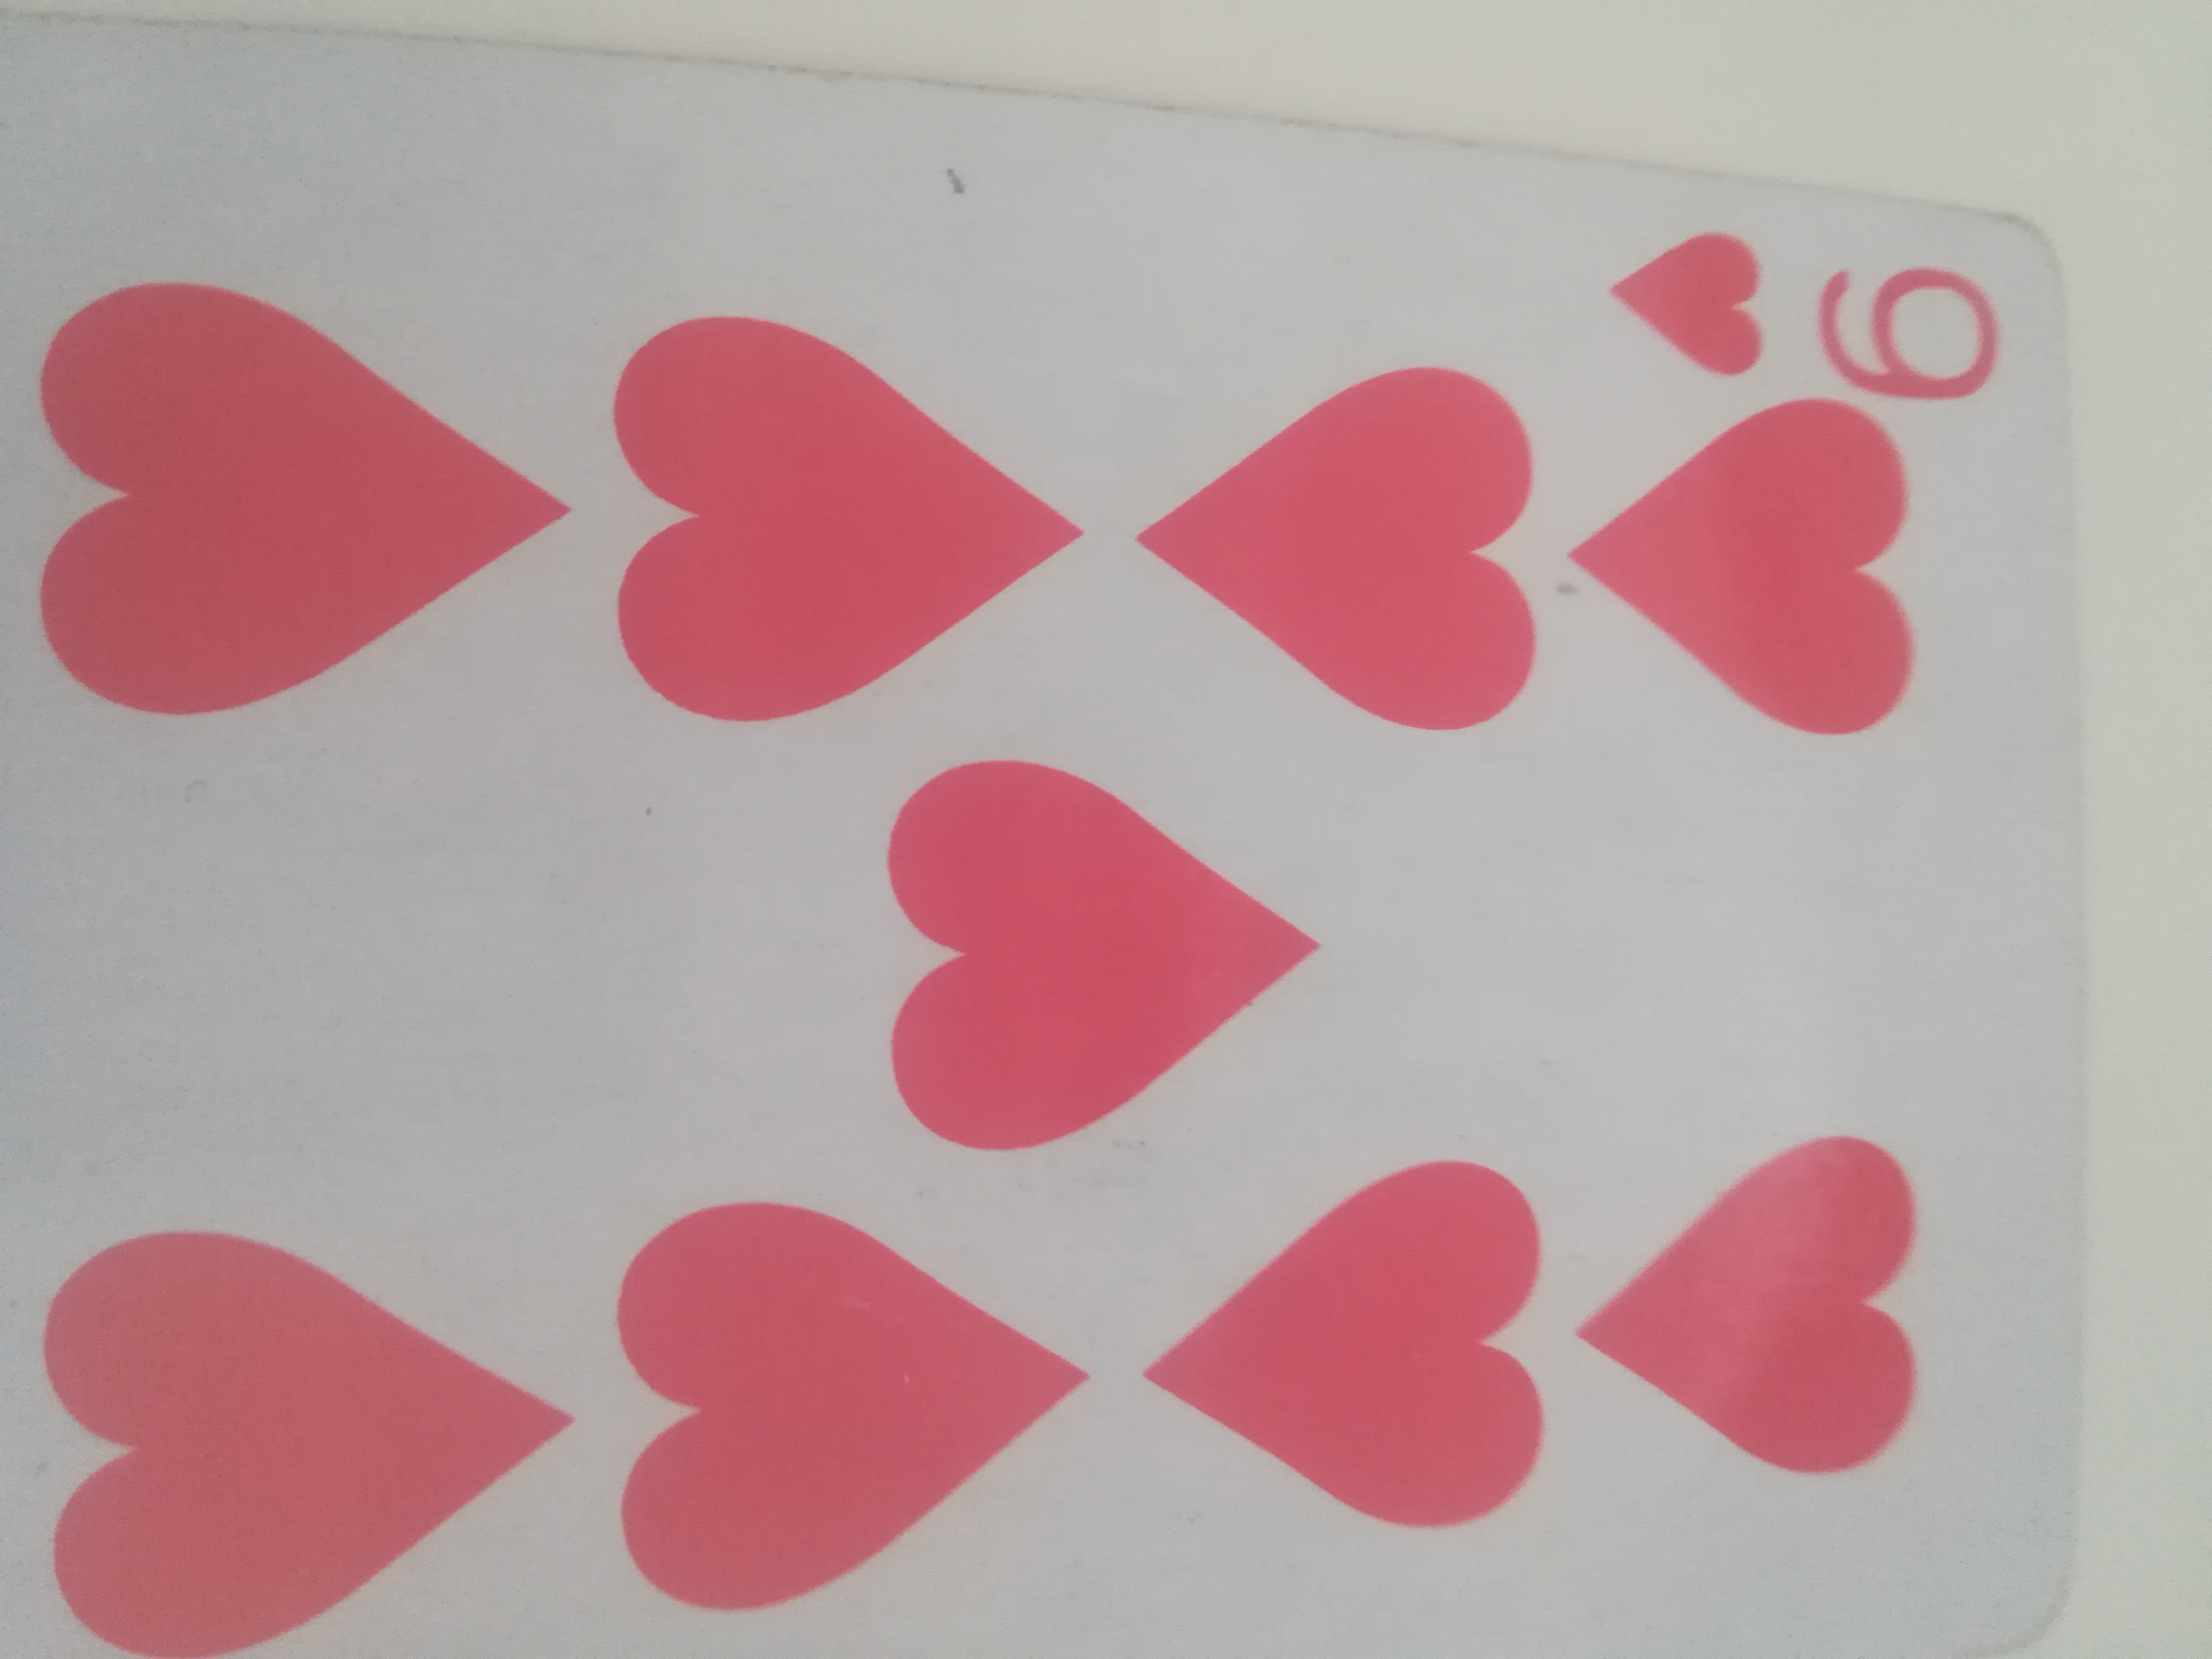9H: (5, 63, 2102, 1659)
